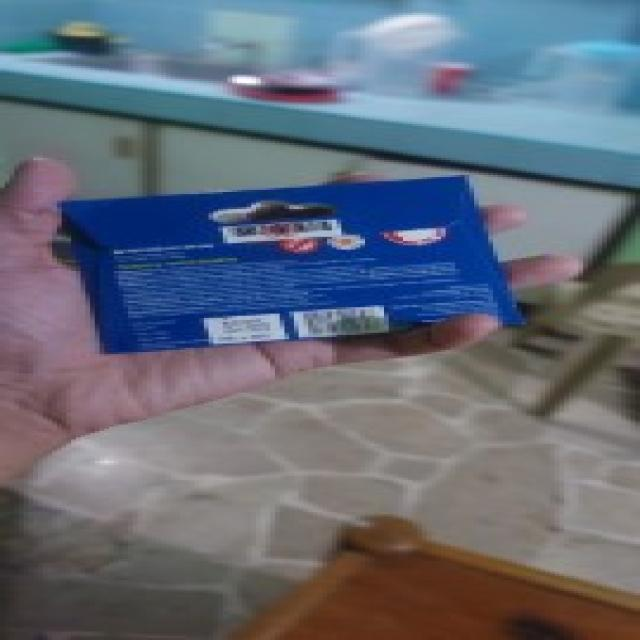Cacat: (55, 179, 519, 355)
